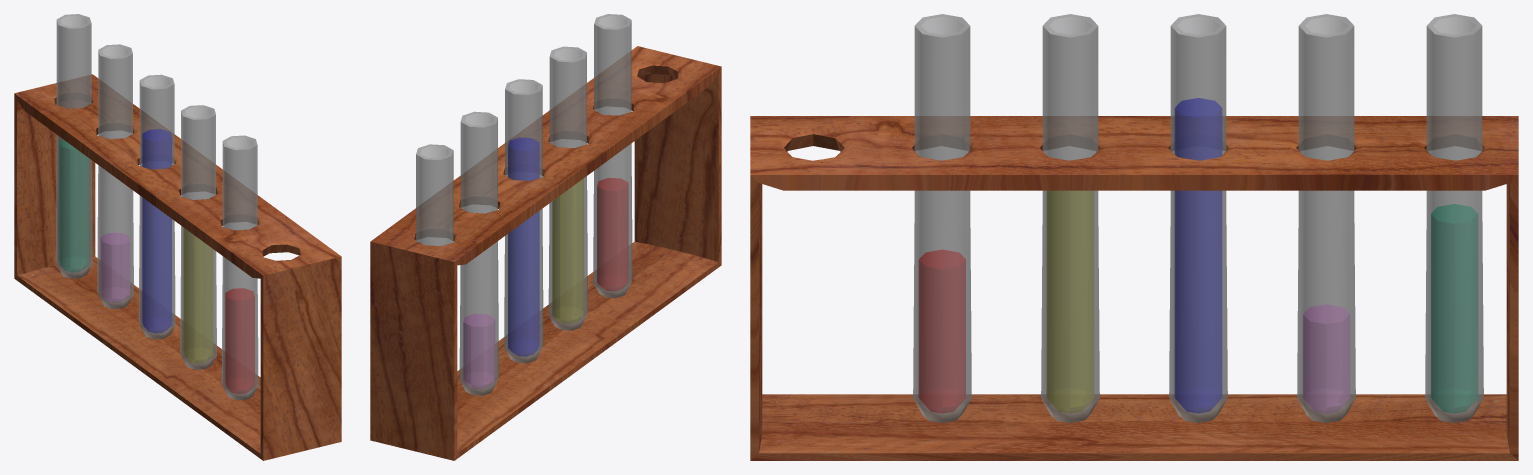
File: Jar.container.fbx
The picture shows the model from 3 angles, left to right: view 1: azimuth 30°, elevation 25°; view 2: azimuth 150°, elevation 25°; view 3: azimuth 270°, elevation 25°; orthographic projection. The views are drawn at different scales.
Parts seen in each view (by area): view 1: Container, Jar5, Jar1, Jar3, Jar4, Jar2, Jar_lique3, Jar_lique1, Jar_lique4, Jar_lique5, Jar_lique2; view 2: Container, Jar2, Jar3, Jar5, Jar4, Jar_lique3, Jar_lique4, Jar1, Jar_lique5, Jar_lique2; view 3: Container, Jar5, Jar2, Jar4, Jar1, Jar3, Jar_lique3, Jar_lique4, Jar_lique1, Jar_lique5, Jar_lique2.
Boxes of the visible parts, x1,y1,x2,y2 form: Container: (14,74,341,460); Jar5: (221,135,258,400); Jar1: (55,14,92,278); Jar3: (138,74,175,339); Jar4: (180,105,216,369); Jar2: (97,44,133,309); Jar_lique3: (142,129,171,332); Jar_lique1: (59,140,88,272); Jar_lique4: (184,228,212,363); Jar_lique5: (225,288,254,393); Jar_lique2: (101,233,129,302); Container: (370,46,721,460); Jar2: (459,111,498,395); Jar3: (504,79,543,363); Jar5: (593,14,632,297); Jar4: (548,46,587,330); Jar_lique3: (508,137,539,356); Jar_lique4: (552,179,583,323); Jar1: (416,144,453,245); Jar_lique5: (597,178,628,290); Jar_lique2: (463,314,494,388); Container: (750,116,1518,460); Jar5: (913,14,971,422); Jar2: (1297,14,1355,422); Jar4: (1041,14,1099,422); Jar1: (1425,14,1483,422); Jar3: (1169,14,1227,422); Jar_lique3: (1175,98,1221,413); Jar_lique4: (1047,191,1093,413); Jar_lique1: (1431,204,1477,413); Jar_lique5: (919,250,965,413); Jar_lique2: (1303,304,1349,413).
Size of the model in its own units: 14.72 by 47.2 by 81.04.
